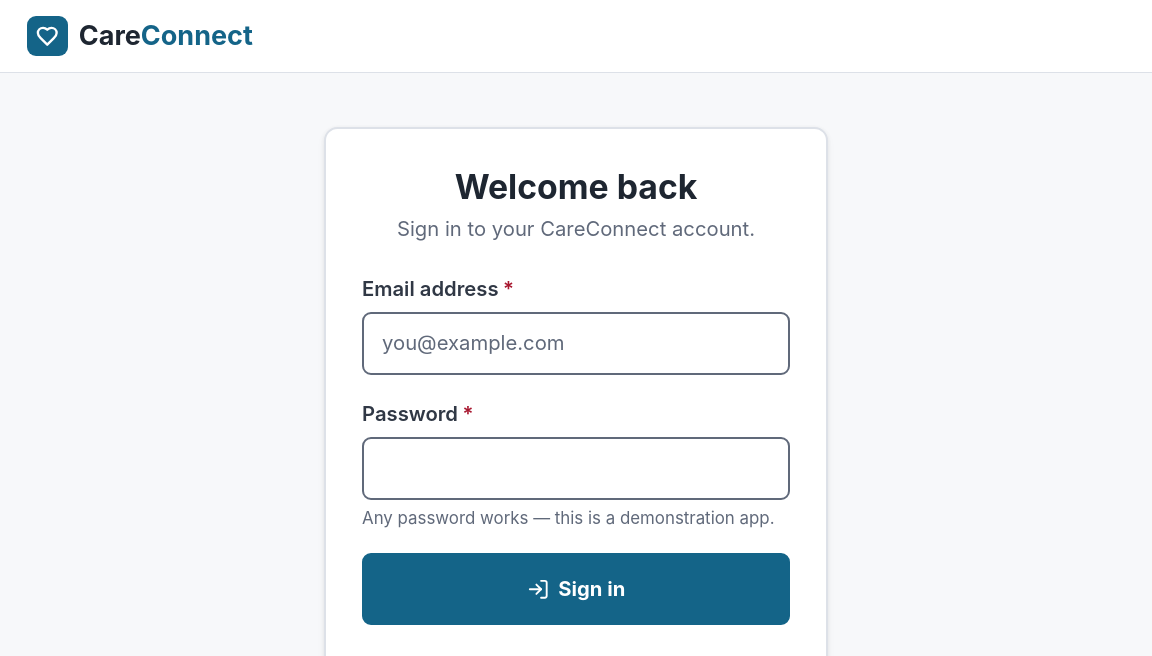
Test: sign-up and sign-in › shows an error for an email with no account
The width and height of the screenshot is (1152, 656).
Type "nobody@example.com" into the field labelled "Email address*" at (576, 344), box [362,312,790,375]
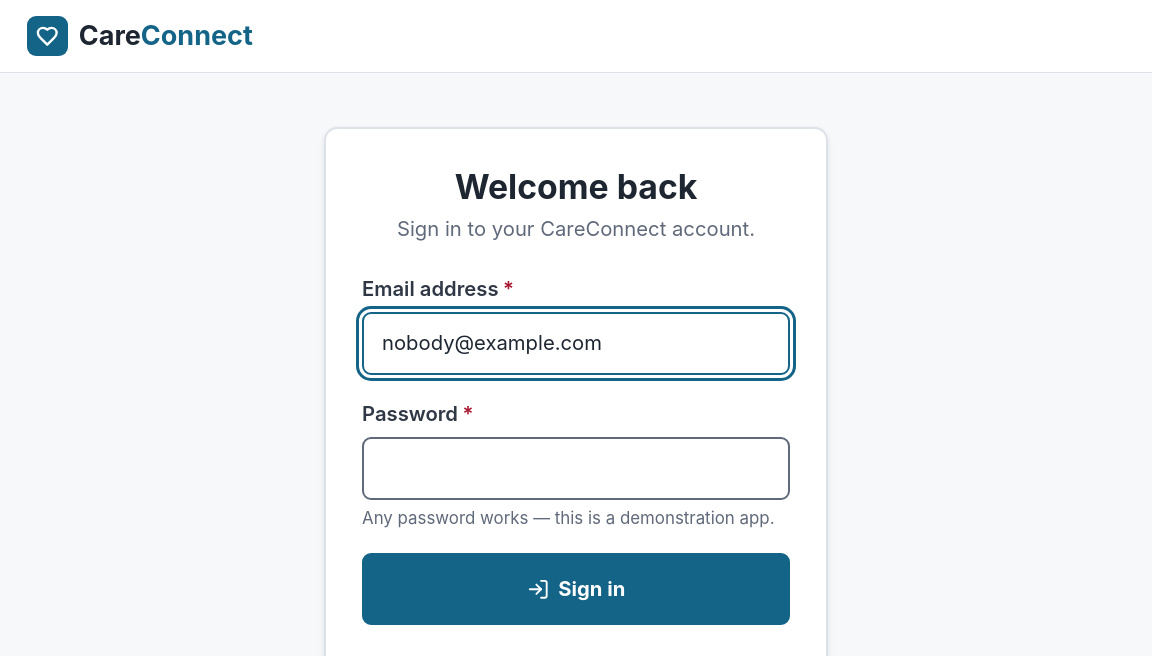
Type "demo-password" into the password field labelled "Password*" at (576, 469), box [362,437,790,500]
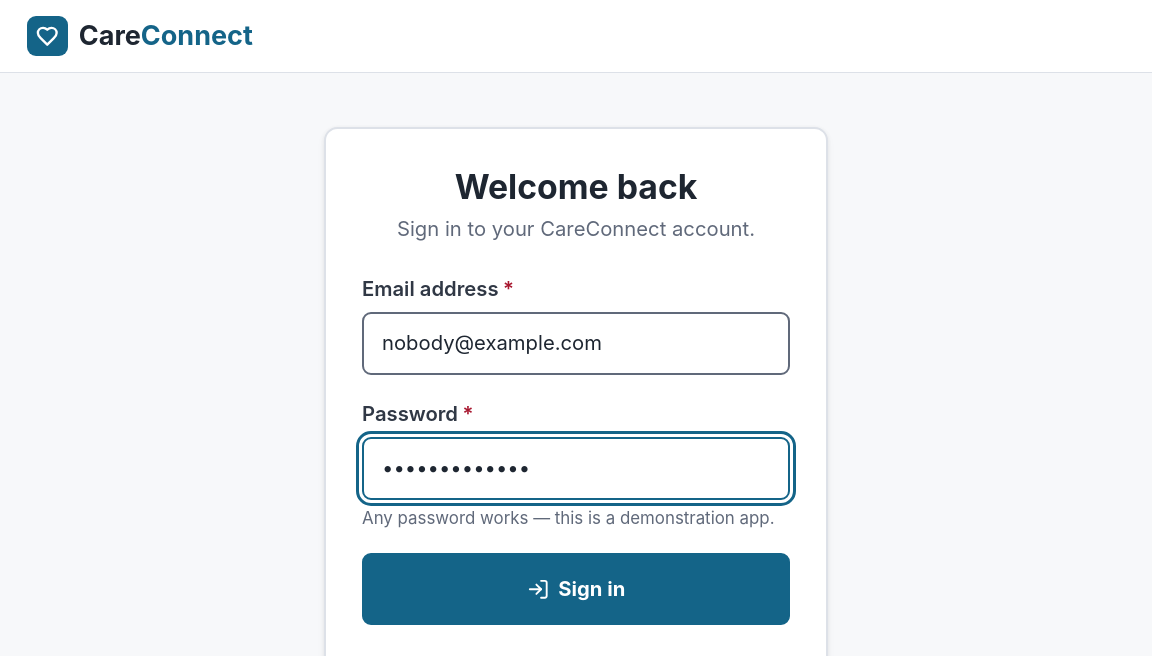
Click the button "Sign in" at (576, 589), box [362,553,790,625]
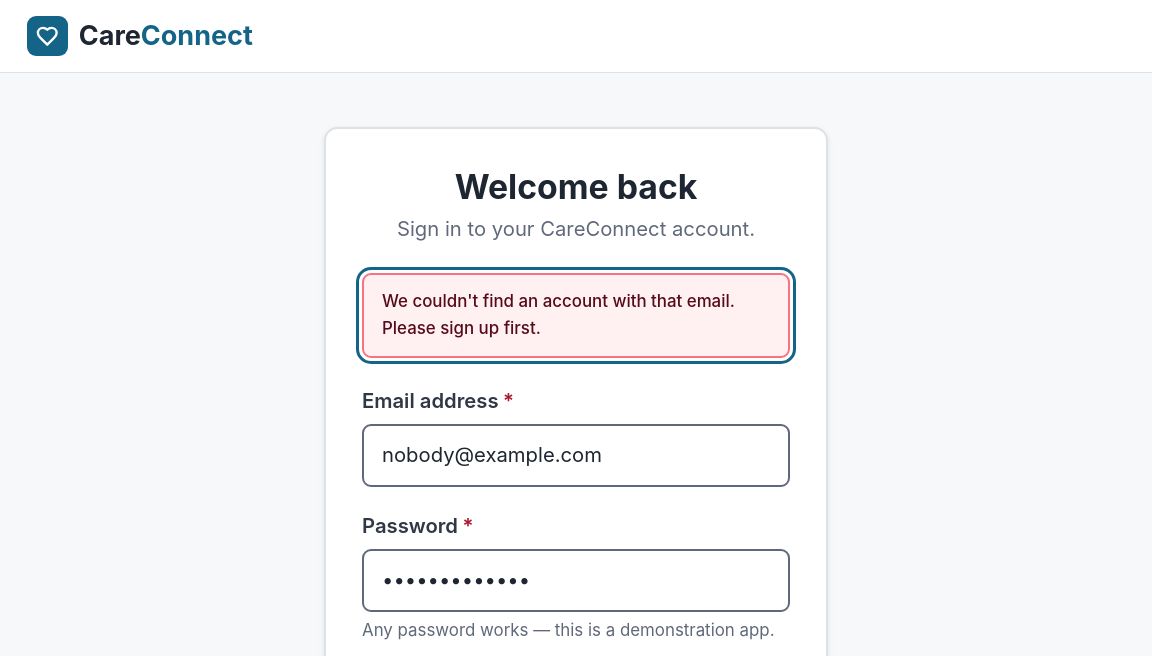
Result: the text "We couldn't find an account with that email. Please sign up first." is shown at [362,273,790,358]
